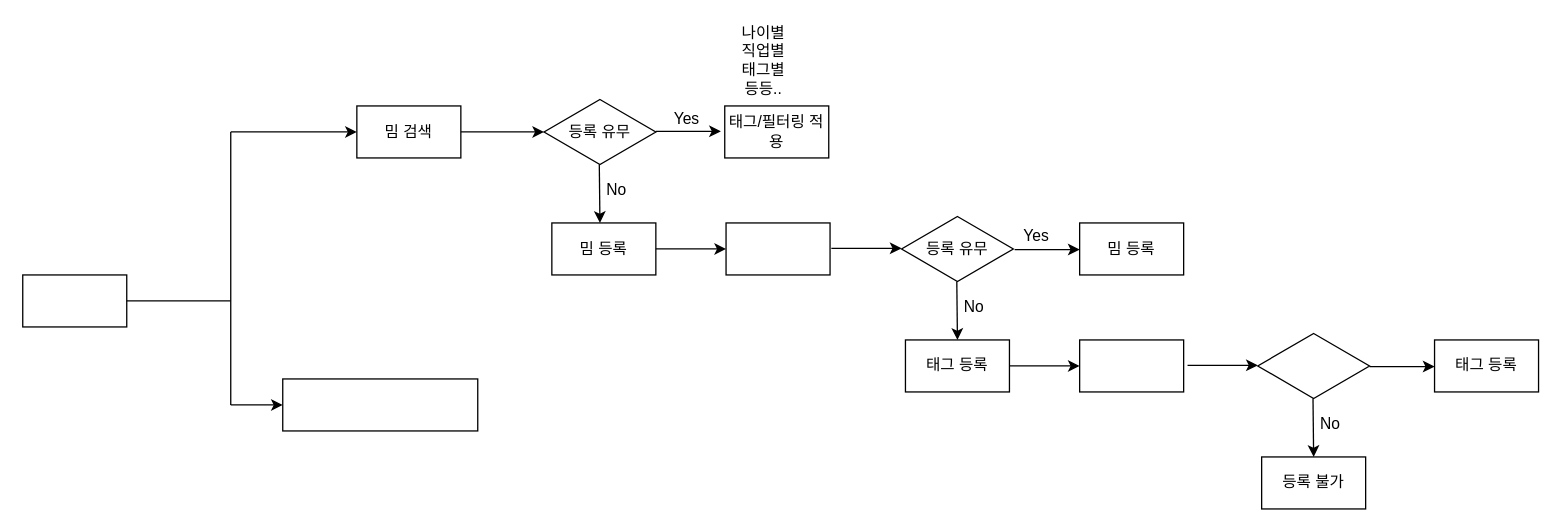
Some shapes in this 1561 by 532 pixel diagram are drawn without their labels. The centre of each missing label's shape, as x and y in pixels:
레퍼런스 검색: [1131,365]
오늘의/이주의/이달의 밈: [379,404]
웹 실행: [74,300]
존재 유무: [1313,365]
태그 검색: [777,248]
